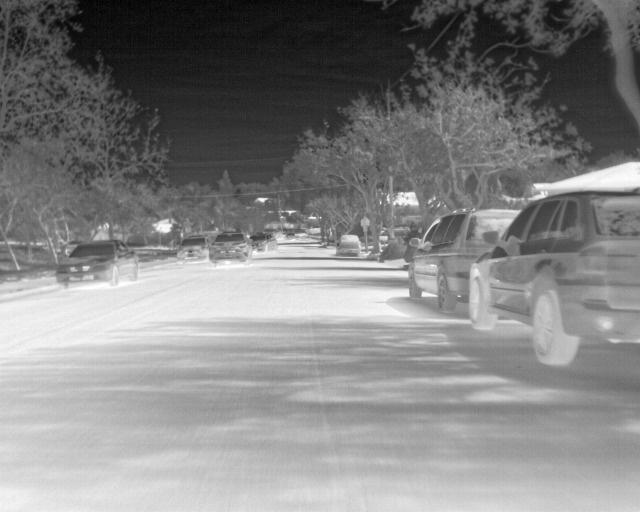car: (466, 189, 639, 368), (406, 210, 526, 317), (55, 241, 139, 289), (210, 232, 249, 265), (177, 234, 209, 263), (336, 234, 360, 258), (250, 232, 266, 253), (267, 233, 280, 250)
